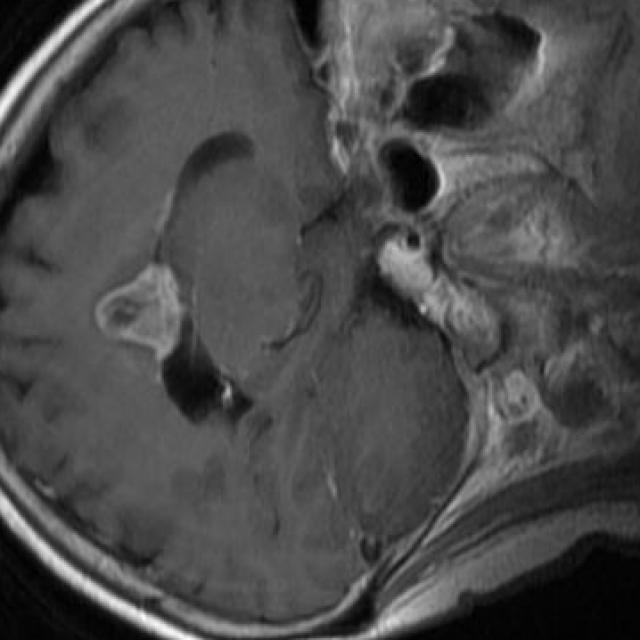glioma: (94, 264, 184, 362)
